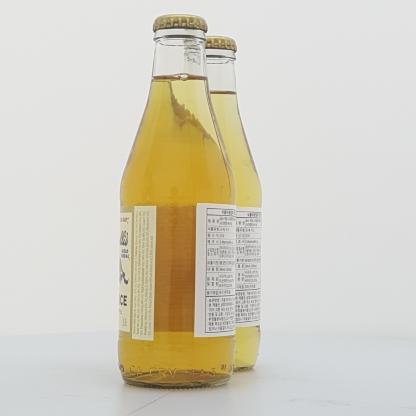------------------296ML: (117, 14, 237, 390)
